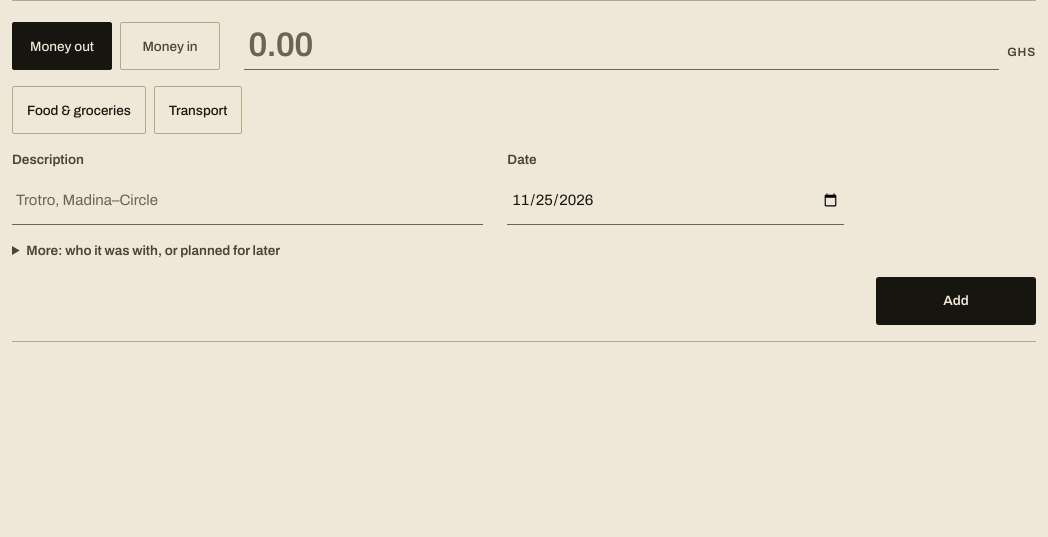
Test: EntryForm › keeps who and planned under More, and opens it when a future date makes the row planned
Type "2099-01-15" into the date field labelled "Date" at {"x": 676, "y": 201}, box x1=507 y1=177 x2=844 y2=225
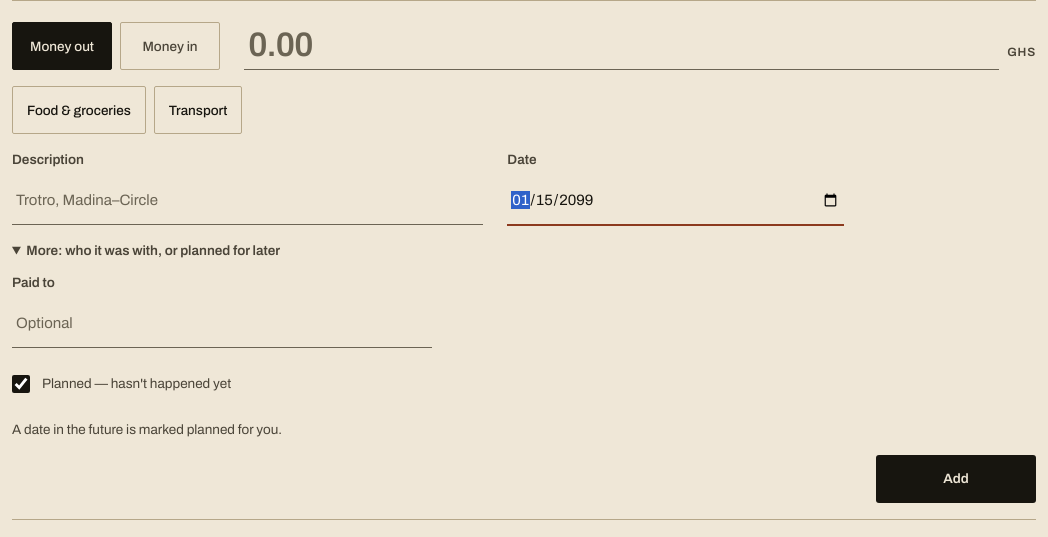
expect the checkbox labelled "Planned — hasn't happened yet" is checked: met, box x1=12 y1=375 x2=30 y2=393
